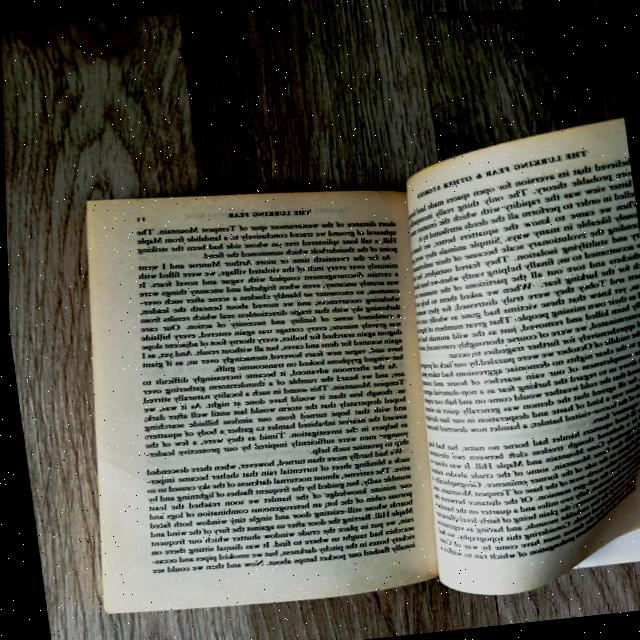Book: (85, 118, 640, 618)
